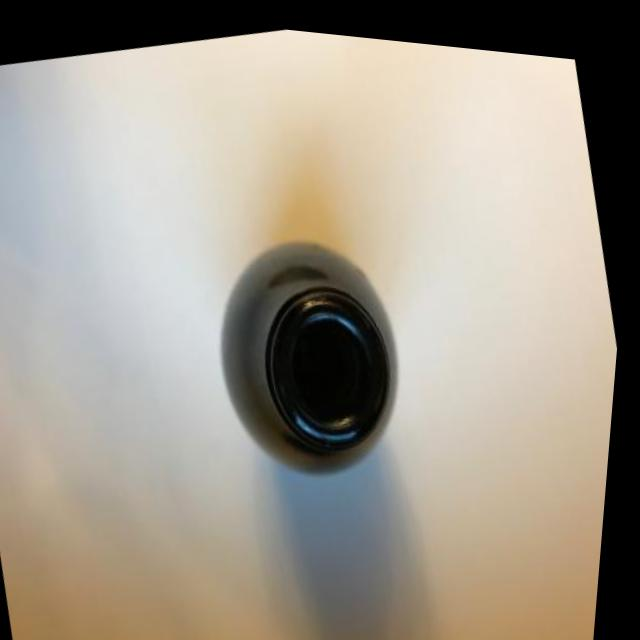glass: (138, 153, 503, 571)
